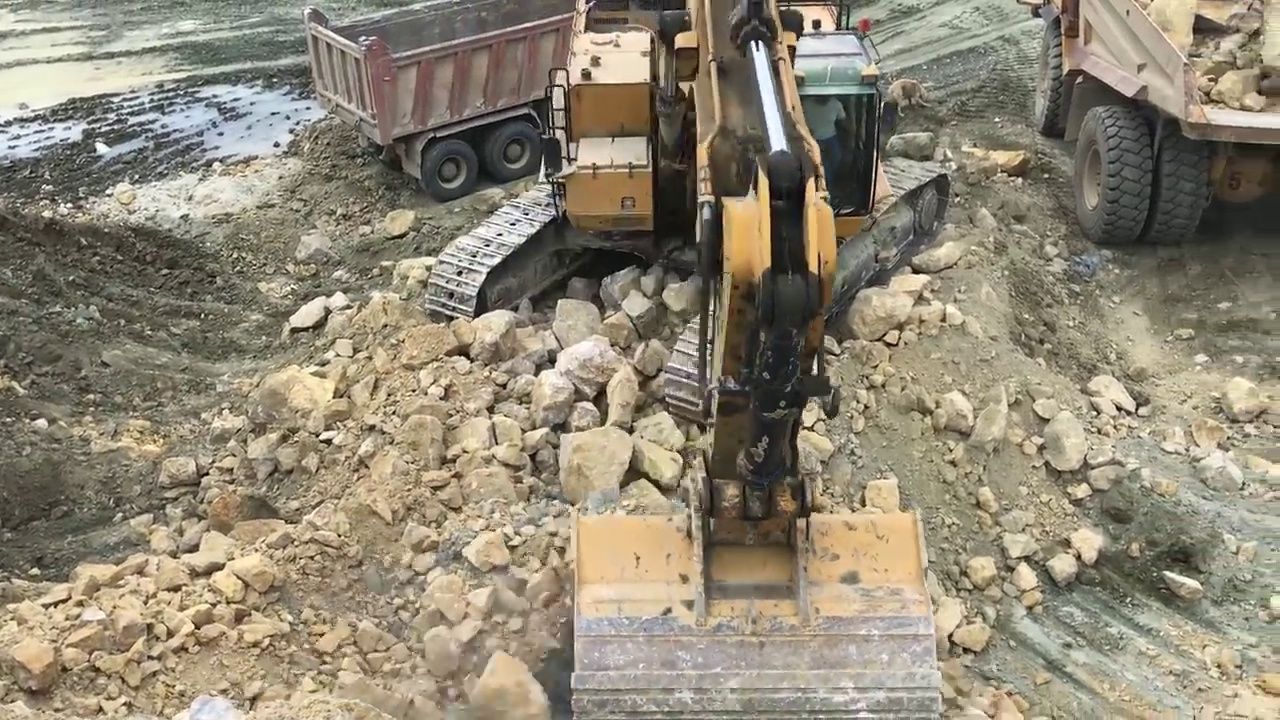excavator: (421, 2, 953, 720)
truck: (299, 1, 662, 202), (1026, 1, 1280, 239)
